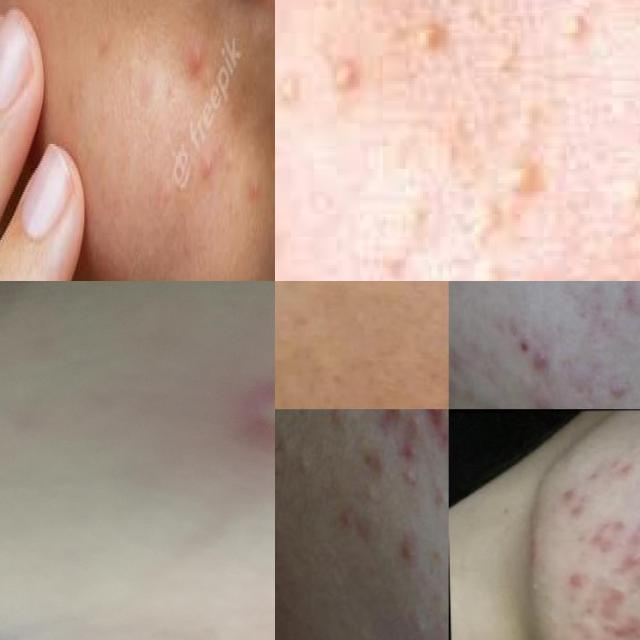acne_scars: (575, 574, 640, 620), (577, 512, 640, 552), (593, 611, 640, 640), (606, 458, 640, 478)
comedone: (550, 490, 594, 521), (406, 606, 436, 638), (402, 463, 424, 506), (290, 443, 312, 486), (325, 409, 353, 437), (368, 482, 388, 513), (428, 482, 448, 513), (522, 576, 549, 598), (630, 567, 640, 585)
milium: (457, 143, 565, 250), (311, 30, 378, 108), (397, 10, 460, 63), (428, 262, 598, 281)
papule: (390, 530, 429, 573), (602, 368, 628, 409), (528, 339, 557, 375), (522, 386, 559, 409), (398, 438, 424, 470), (377, 409, 405, 426), (615, 551, 640, 566)
